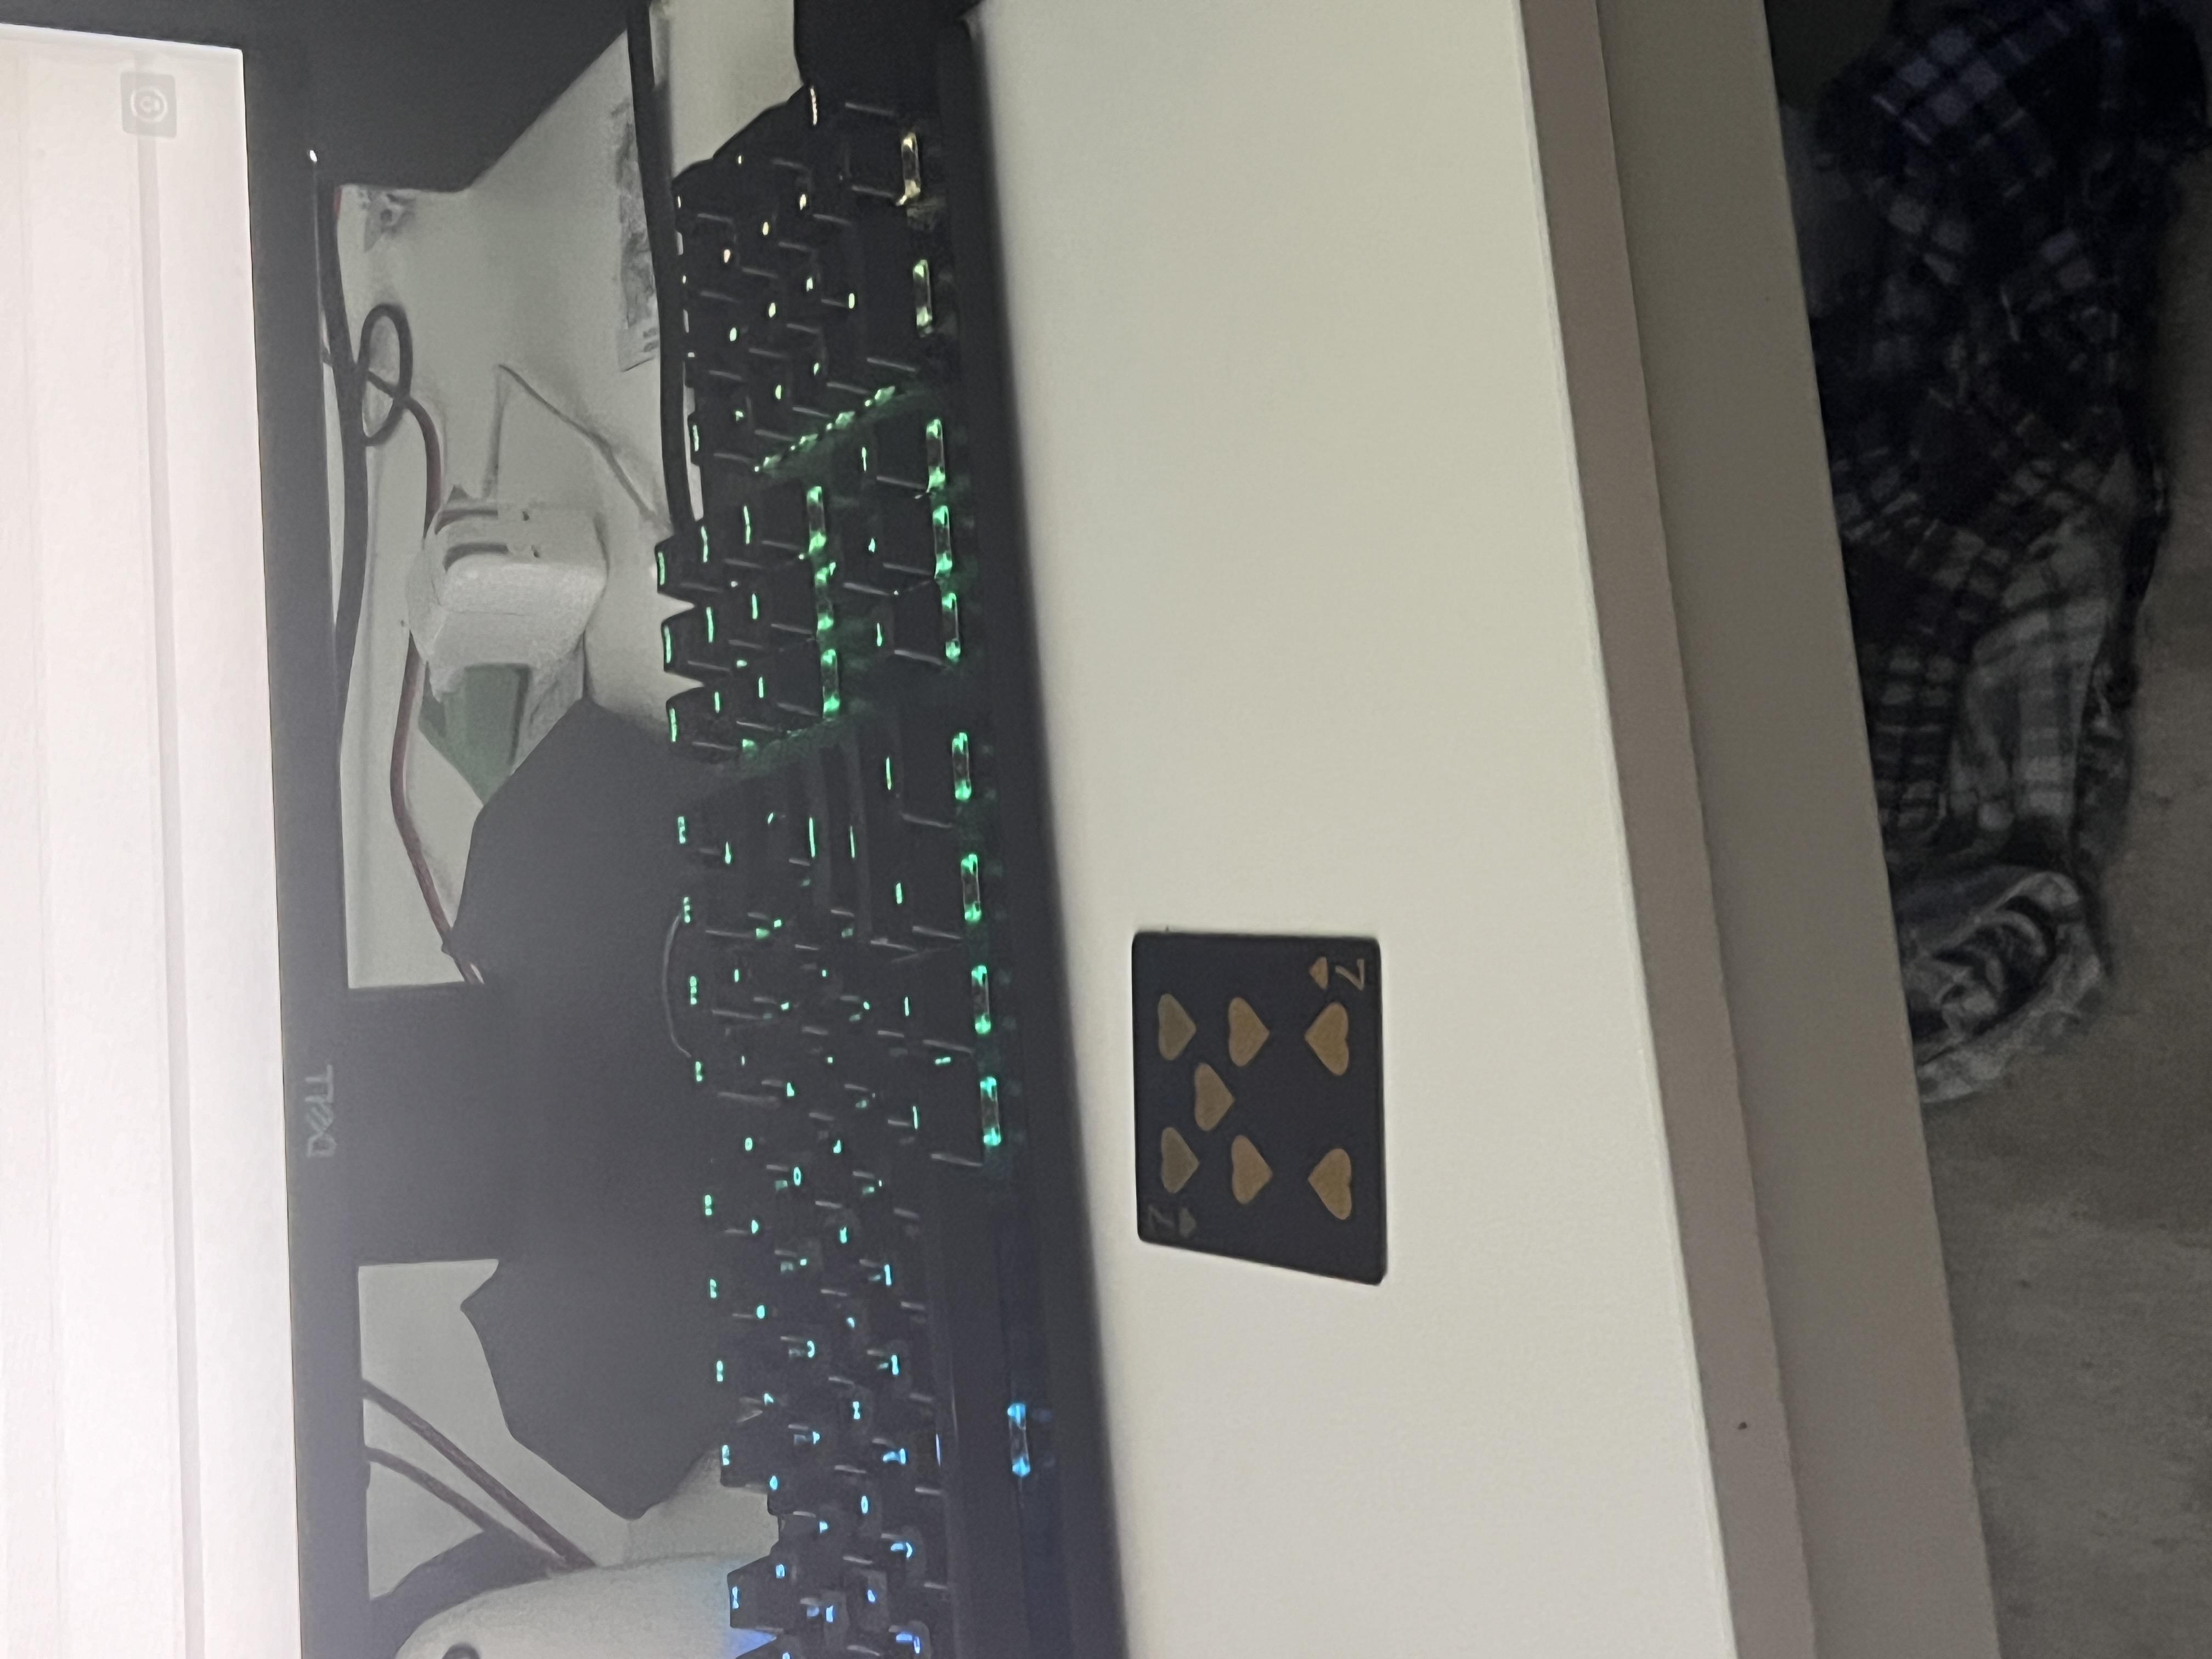7H: (885, 972, 951, 1030), (556, 854, 625, 899)
